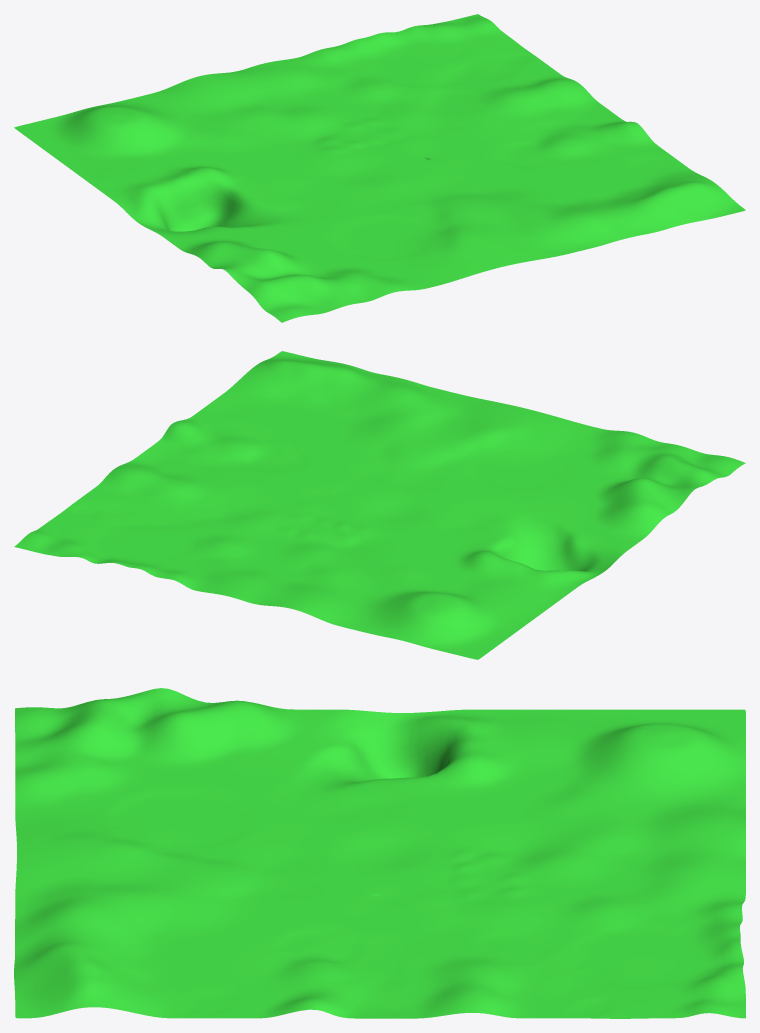
File: terrain.fbx
3 views of the same model, one above another, from view 1: azimuth 30°, elevation 25°; view 2: azimuth 150°, elevation 25°; view 3: azimuth 270°, elevation 25° (orthographic). The views are drawn at different scales.
Parts seen in each view (by area): view 1: Grid; view 2: Grid; view 3: Grid.
Boxes of the visible parts, bbox=[...] form: Grid: bbox=[14, 14, 745, 322]; Grid: bbox=[14, 351, 745, 659]; Grid: bbox=[14, 688, 745, 1018].
Bounding box in the file's own units: 10020 × 1051 × 9966.
